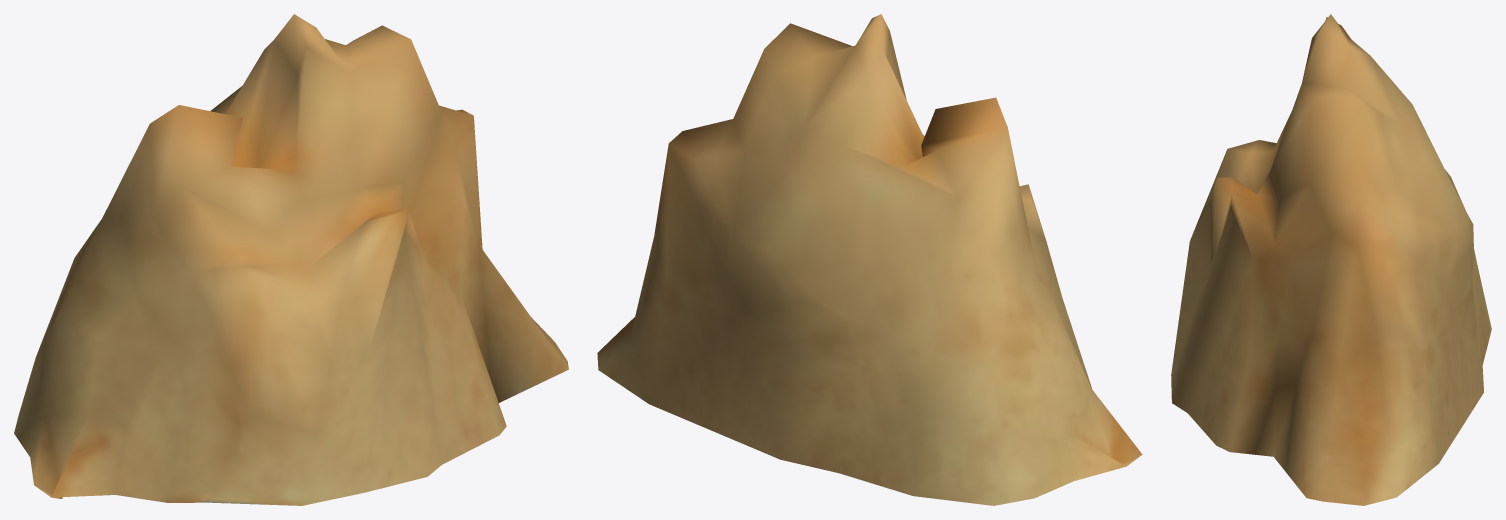
3 renders of one model, left to right at view 1: azimuth 30°, elevation 25°; view 2: azimuth 150°, elevation 25°; view 3: azimuth 270°, elevation 25°, orthographic. The views are drawn at different scales.
Parts seen in each view (by area): view 1: kıl; view 2: kıl; view 3: kıl.
Part boxes in pixels (<box>): kıl: <box>14,14,568,505</box>; kıl: <box>597,14,1142,505</box>; kıl: <box>1171,14,1491,505</box>.
Size of the model in its own units: 65.01 by 48.72 by 37.26.
